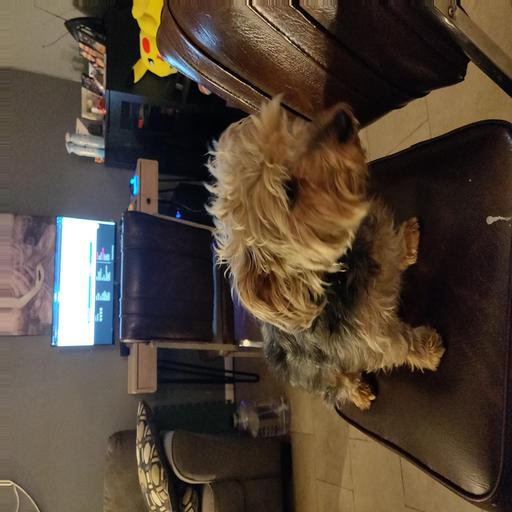dog: (205, 119, 457, 371)
